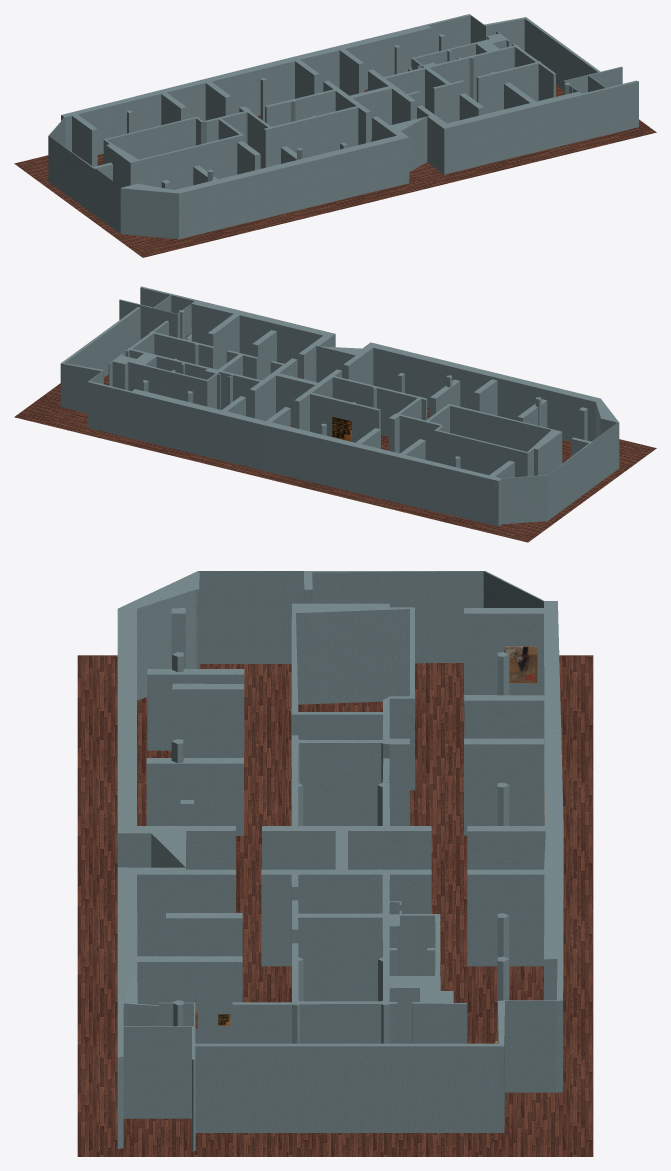
Rendered from GAM.dae.
The picture shows the model from 3 angles, top to bottom: view 1: azimuth 30°, elevation 25°; view 2: azimuth 150°, elevation 25°; view 3: azimuth 270°, elevation 25°; orthographic projection. The views are drawn at different scales.
Visible parts, largest first — view 1: walls, floor; view 2: walls, floor, 13; view 3: walls, floor, 12.
Boxes of the visible parts, x1=… form: walls: x1=48, y1=14, x2=638, y2=239; floor: x1=14, y1=85, x2=656, y2=257; walls: x1=60, y1=286, x2=619, y2=526; floor: x1=14, y1=374, x2=656, y2=542; 13: x1=332, y1=416, x2=351, y2=441; walls: x1=117, y1=571, x2=563, y2=1151; floor: x1=77, y1=655, x2=593, y2=1156; 12: x1=504, y1=646, x2=537, y2=683.
Size of the model in its own units: 70.31 by 30.54 by 6.84.
11 materials, 11 textured.
